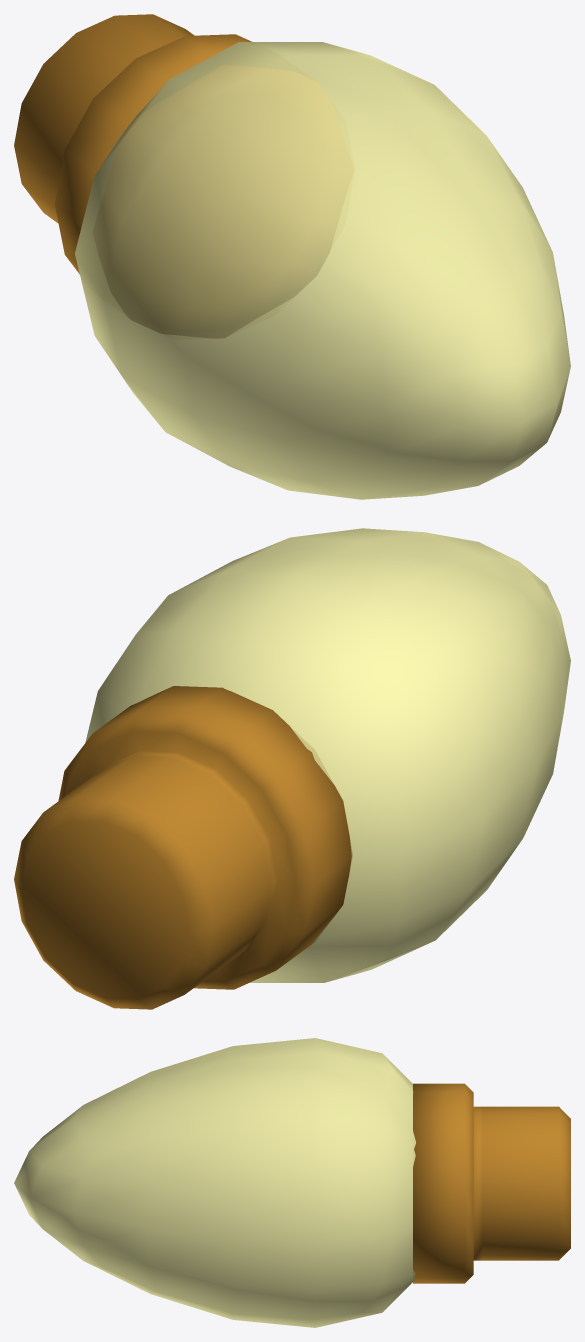
The model's file is light bulb.fbx.
3 renders of one model, top to bottom at view 1: azimuth 30°, elevation 25°; view 2: azimuth 150°, elevation 25°; view 3: azimuth 270°, elevation 25°, orthographic. The views are drawn at different scales.
Visible parts, largest first — view 1: Cylinder.005; view 2: Cylinder.005; view 3: Cylinder.005.
Part boxes in pixels (bbox=[...]): Cylinder.005: bbox=[14, 14, 570, 499]; Cylinder.005: bbox=[14, 528, 570, 1009]; Cylinder.005: bbox=[14, 1038, 570, 1327].
Size of the model in its own units: 0.1717 by 0.1717 by 0.3302.
